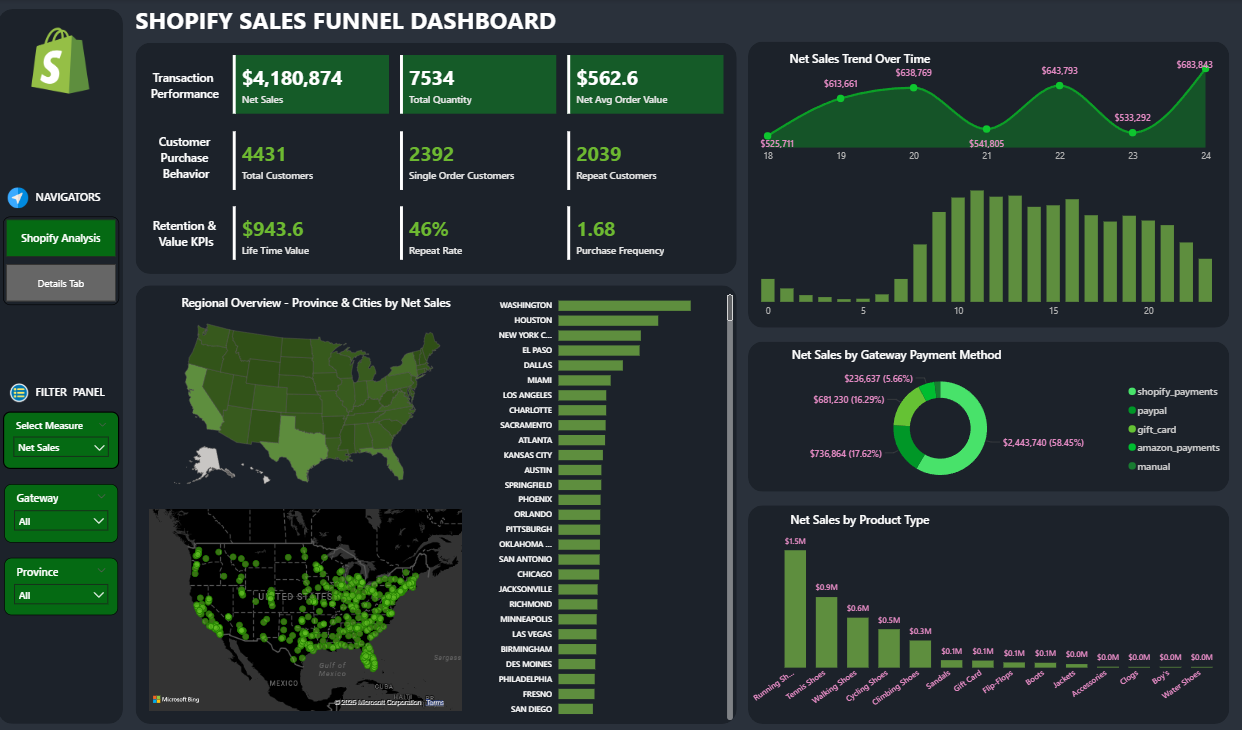

The page's visual inventory and layout, read from the dashboard file:
{"tool":"powerbi","page":{"name":"Shopify Analysis","canvas":[1700,1000],"ordinal":0},"visuals":[{"type":"shape","box":[0,13.6,170.4,974.8],"z":0},{"type":"textbox","box":[182.3,1.7,608.4,52.8],"z":1000},{"type":"shape","box":[187.5,59.6,819.7,315.3],"z":2000},{"type":"cardVisual","fields":{"Data":["shopify_sales.Net Sales","shopify_sales.Total Quantity","shopify_sales.Net Avg Order Value"]},"box":[315.3,71.6,680,90.3],"z":3000},{"type":"card","fields":{"Values":["shopify_sales.Transaction Perf"]},"box":[182.3,83.5,144.9,68.2],"z":4000},{"type":"cardVisual","fields":{"Data":["shopify_sales.Total Customers","shopify_sales.Single Order Customers","shopify_sales.Repeat Customers"]},"box":[315.3,174.7,680,90.3],"z":5000},{"type":"card","fields":{"Values":["shopify_sales.Customer Purchase Behavior"]},"box":[184.1,167,144.9,92],"z":6000},{"type":"cardVisual","fields":{"Data":["shopify_sales.Life Time Value","shopify_sales.Repeat Rate","shopify_sales.Purchase Frequency"]},"box":[315.3,277.8,680,83.5],"z":7000},{"type":"card","fields":{"Values":["shopify_sales.Retention & Value KPIs"]},"box":[184.1,277.8,144.9,83.5],"z":8000},{"type":"shape","box":[187.5,390.3,819.7,598.2],"z":9000},{"type":"shapeMap","fields":{"Value":["shopify_sales.Net Sales"],"Category":["shopify_sales.Billing Address Province"]},"box":[187.5,426,468.6,252.2],"z":10000},{"type":"slicer","fields":{"Values":["Select Measure.Select Measure"]},"box":[6.8,562.4,158.5,78.4],"z":11000},{"type":"map","fields":{"Category":["shopify_sales.Location"]},"box":[201.1,690.2,436.3,284.6],"z":12000},{"type":"clusteredBarChart","fields":{"Y":["shopify_sales.Net Sales"],"Category":["shopify_sales.CITY"]},"box":[666.3,390.3,340.8,598.2],"z":13000},{"type":"card","fields":{"Values":["shopify_sales.Map Title"]},"box":[201.1,390.3,465.2,52.8],"z":14000},{"type":"shape","box":[1022.5,57.9,656.1,390.3],"z":15000},{"type":"areaChart","fields":{"Y":["shopify_sales.Net Sales"],"Category":["shopify_sales.Invoice Date.Variation.Date Hierarchy.Day"]},"box":[1034.4,71.6,627.1,160.2],"z":16000},{"type":"columnChart","fields":{"Y":["shopify_sales.Net Sales"],"Category":["shopify_sales.Hour"]},"box":[1034.4,231.8,627.1,211.3],"z":17000},{"type":"card","fields":{"Values":["shopify_sales.Trend Title"]},"box":[1034.4,68.2,281.2,30.7],"z":18000},{"type":"shape","box":[1022.5,466.9,656.1,205],"z":19000},{"type":"donutChart","fields":{"Y":["shopify_sales.Net Sales"],"Category":["shopify_sales.Gateway"]},"box":[1024.2,499.3,656.1,172.1],"z":20000},{"type":"card","fields":{"Values":["shopify_sales.Gateway Title"]},"box":[1034.4,468.6,381.7,35.8],"z":21000},{"type":"shape","box":[1022.5,690.2,656.1,298.2],"z":22000},{"type":"columnChart","fields":{"Y":["shopify_sales.Net Sales"],"Category":["shopify_sales.Product Type"]},"box":[1022.5,712.3,656.1,262.4],"z":23000},{"type":"card","fields":{"Values":["shopify_sales.Product Title"]},"box":[1034.4,693.6,281.2,35.8],"z":24000},{"type":"slicer","fields":{"Values":["shopify_sales.Gateway"]},"box":[8.5,661.2,155.1,80.1],"z":25000},{"type":"slicer","fields":{"Values":["shopify_sales.Billing Address Province"]},"box":[8.5,761.8,155.1,78.4],"z":26000},{"type":"pageNavigator","box":[6.8,296.5,158.5,121],"z":27000},{"type":"textbox","box":[46,253.9,119.3,42.6],"z":28000},{"type":"textbox","box":[46,519.8,184.1,42.6],"z":29000},{"type":"image","box":[6.8,518.1,44.3,37.5],"z":30000},{"type":"image","box":[6.8,252.2,40.9,37.5],"z":31000},{"type":"image","box":[23.9,34.1,122.7,100.5],"z":32000}]}

Visuals, with their boxes on the page's 1700x1000 design canvas (x1, y1, x2, y2). These are canvas units, not pixel positions in the 1242x730 screenshot, which may show the page scaled, cropped or inside an application window:
shape: [x1=0, y1=14, x2=170, y2=988]
textbox: [x1=182, y1=2, x2=791, y2=54]
shape: [x1=188, y1=60, x2=1007, y2=375]
cardVisual - shopify_sales.Net Sales x shopify_sales.Total Quantity: [x1=315, y1=72, x2=995, y2=162]
card - shopify_sales.Transaction Perf: [x1=182, y1=84, x2=327, y2=152]
cardVisual - shopify_sales.Total Customers x shopify_sales.Single Order Customers: [x1=315, y1=175, x2=995, y2=265]
card - shopify_sales.Customer Purchase Behavior: [x1=184, y1=167, x2=329, y2=259]
cardVisual - shopify_sales.Life Time Value x shopify_sales.Repeat Rate: [x1=315, y1=278, x2=995, y2=361]
card - shopify_sales.Retention & Value KPIs: [x1=184, y1=278, x2=329, y2=361]
shape: [x1=188, y1=390, x2=1007, y2=988]
shapeMap - shopify_sales.Net Sales x shopify_sales.Billing Address Province: [x1=188, y1=426, x2=656, y2=678]
slicer - Select Measure.Select Measure: [x1=7, y1=562, x2=165, y2=641]
map - shopify_sales.Location: [x1=201, y1=690, x2=637, y2=975]
clusteredBarChart - shopify_sales.Net Sales x shopify_sales.CITY: [x1=666, y1=390, x2=1007, y2=988]
card - shopify_sales.Map Title: [x1=201, y1=390, x2=666, y2=443]
shape: [x1=1022, y1=58, x2=1679, y2=448]
areaChart - shopify_sales.Net Sales x shopify_sales.Invoice Date.Variation.Date Hierarchy.Day: [x1=1034, y1=72, x2=1662, y2=232]
columnChart - shopify_sales.Net Sales x shopify_sales.Hour: [x1=1034, y1=232, x2=1662, y2=443]
card - shopify_sales.Trend Title: [x1=1034, y1=68, x2=1316, y2=99]
shape: [x1=1022, y1=467, x2=1679, y2=672]
donutChart - shopify_sales.Net Sales x shopify_sales.Gateway: [x1=1024, y1=499, x2=1680, y2=671]
card - shopify_sales.Gateway Title: [x1=1034, y1=469, x2=1416, y2=504]
shape: [x1=1022, y1=690, x2=1679, y2=988]
columnChart - shopify_sales.Net Sales x shopify_sales.Product Type: [x1=1022, y1=712, x2=1679, y2=975]
card - shopify_sales.Product Title: [x1=1034, y1=694, x2=1316, y2=729]
slicer - shopify_sales.Gateway: [x1=8, y1=661, x2=164, y2=741]
slicer - shopify_sales.Billing Address Province: [x1=8, y1=762, x2=164, y2=840]
pageNavigator: [x1=7, y1=296, x2=165, y2=418]
textbox: [x1=46, y1=254, x2=165, y2=296]
textbox: [x1=46, y1=520, x2=230, y2=562]
image: [x1=7, y1=518, x2=51, y2=556]
image: [x1=7, y1=252, x2=48, y2=290]
image: [x1=24, y1=34, x2=147, y2=135]
